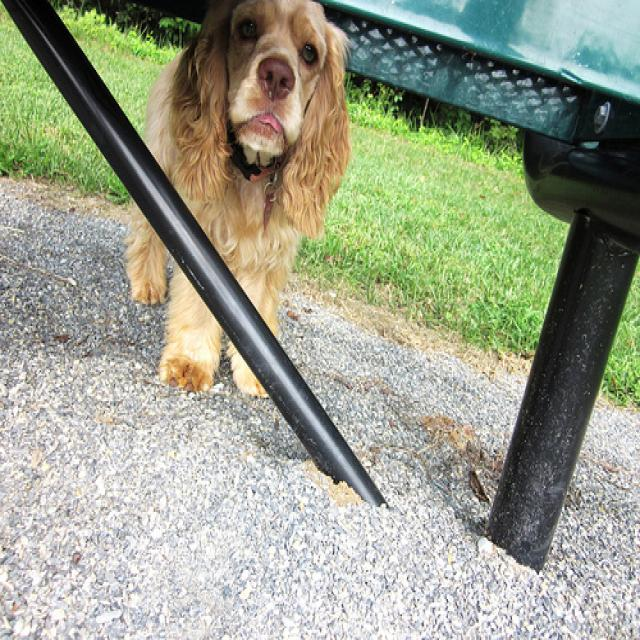dog-english_cocker_spaniel: (132, 2, 356, 350)
